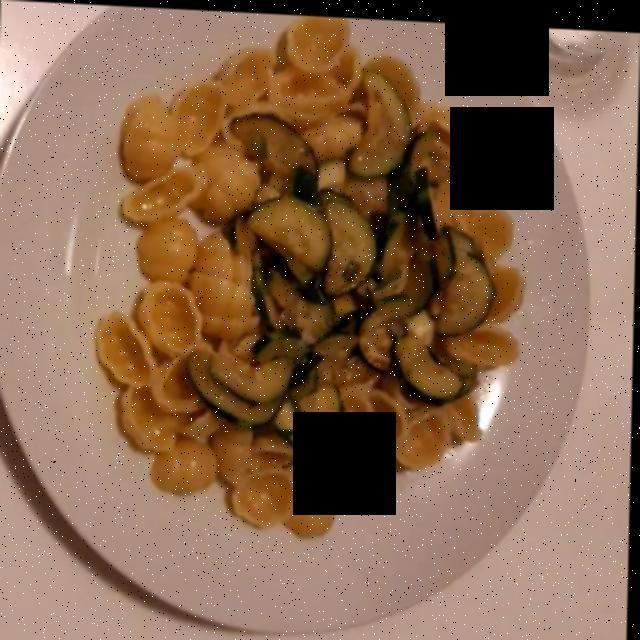pasta: (105, 25, 516, 530)
zucchini: (187, 77, 488, 431)
